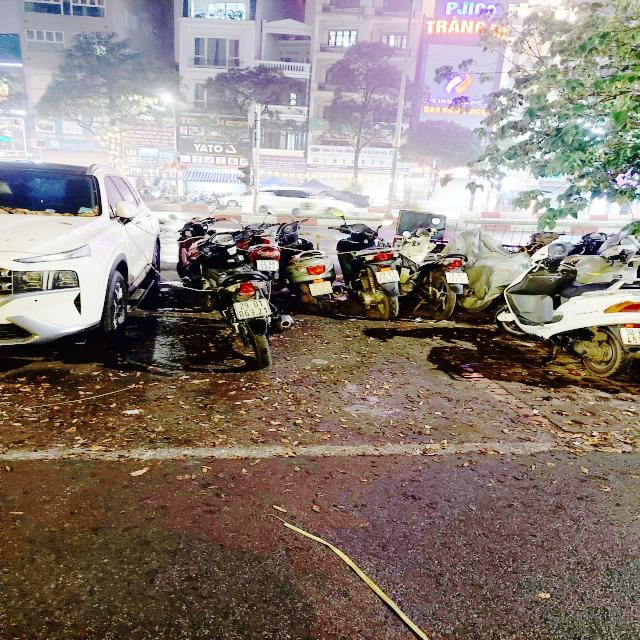license_plate: (233, 299, 273, 320), (309, 282, 334, 297), (376, 271, 401, 285), (257, 260, 281, 273), (447, 273, 470, 284)
